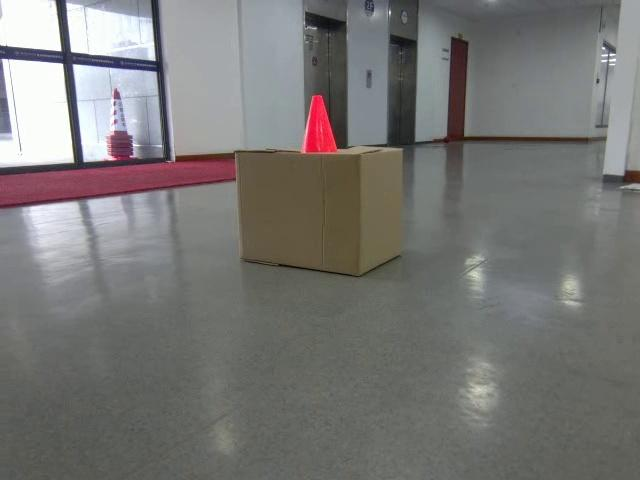orange_barrel: (301, 94, 340, 153)
